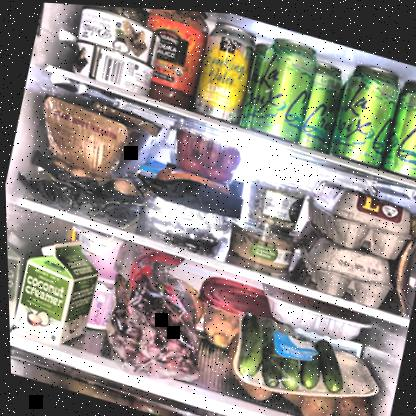cucumber: (230, 310, 270, 379), (312, 337, 346, 389), (254, 336, 286, 388), (276, 339, 308, 388), (291, 336, 323, 384)
eggs: (299, 174, 411, 258), (303, 237, 395, 306)
kiwi: (295, 383, 338, 415), (331, 389, 375, 415)
